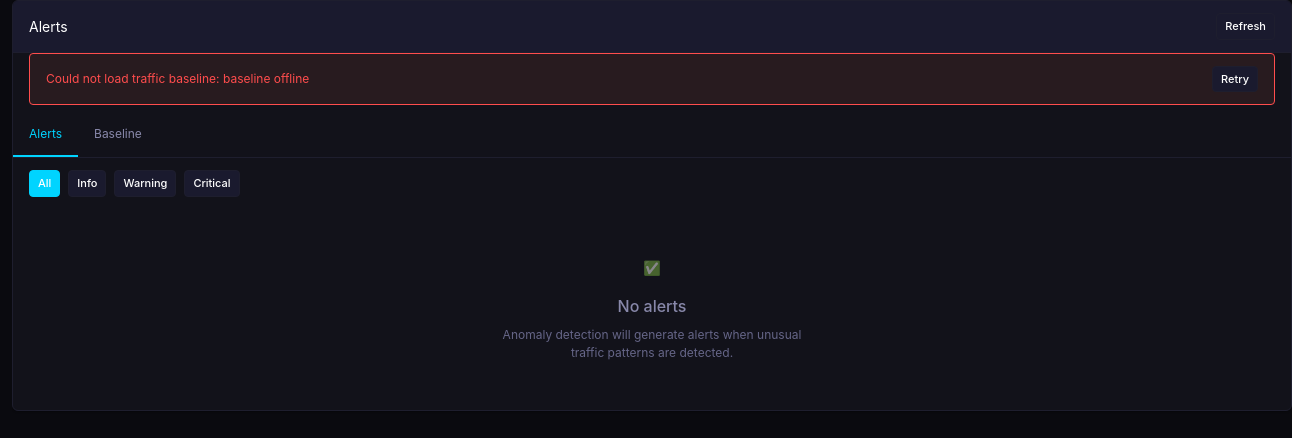
Test: AlertsPage › surfaces a failed baseline load and retries it
This screenshot has width=1292, height=438.
Expected: the message shows "Could not load traffic baseline: baseline offline", [46,71,309,86]
Click the button "Retry" at coordinates (1235, 79), box [1212,66,1258,92]
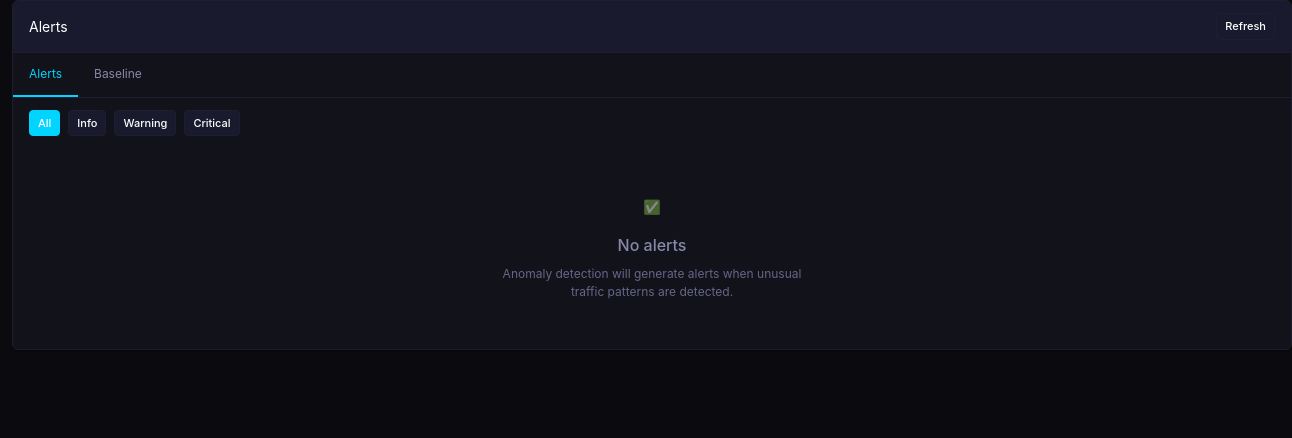
Click the tab "Baseline" at coordinates (118, 74), box [78,52,158,96]
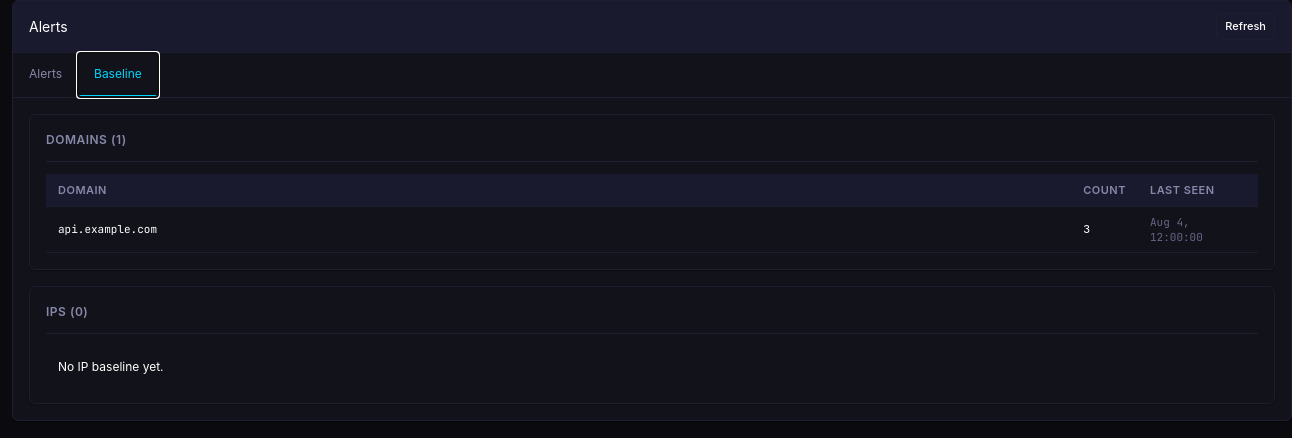
Expected: the text "api.example.com" is shown, [46,206,1071,253]
